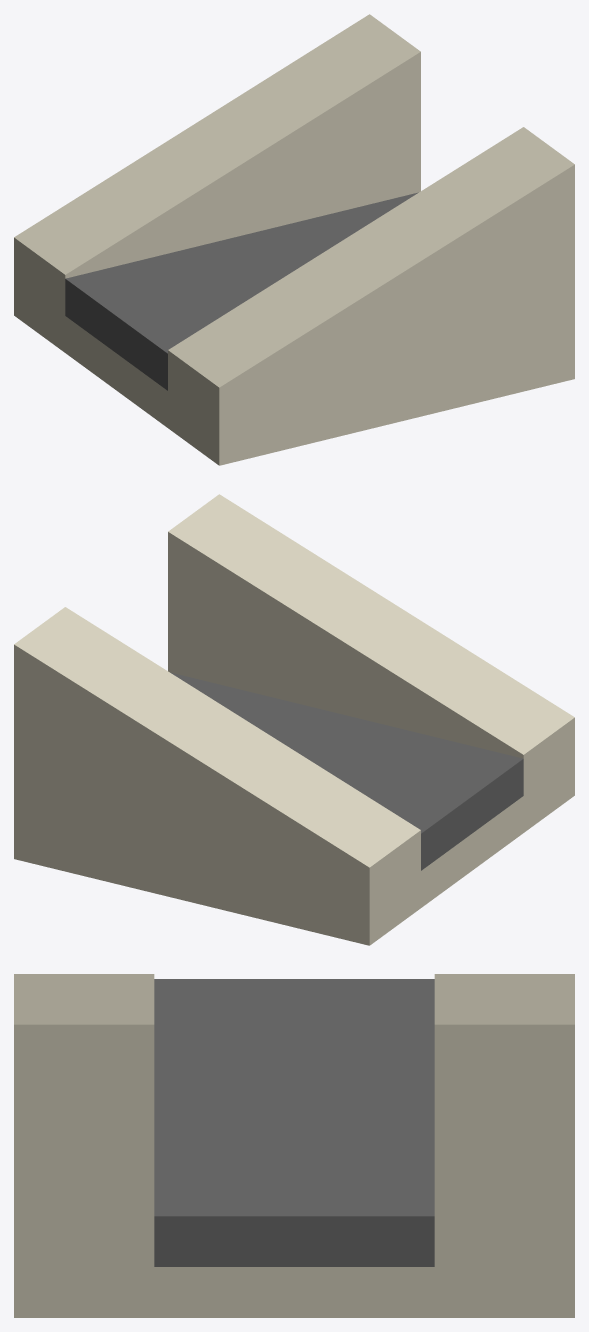
Rendered from tile038.fbx.
3 views of the same model, one above another, from view 1: azimuth 30°, elevation 25°; view 2: azimuth 150°, elevation 25°; view 3: azimuth 270°, elevation 25° (orthographic). The views are drawn at different scales.
Visible parts, largest first — view 1: tile038; view 2: tile038; view 3: tile038.
Boxes of the visible parts, x1,y1,x2,y2 form: tile038: (14,14,574,465); tile038: (14,494,574,945); tile038: (14,974,574,1317).
Size of the model in its own units: 10 by 5.77 by 10.
